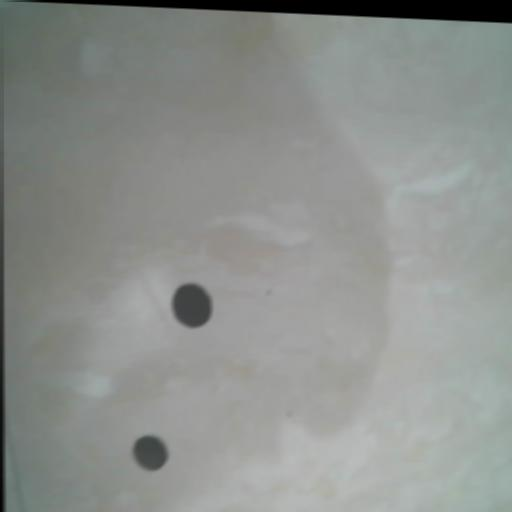pothole: (171, 281, 213, 329), (131, 433, 170, 472)
